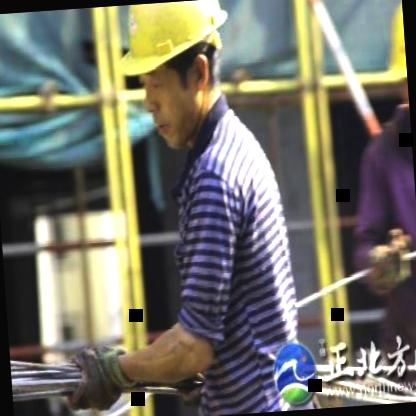helmet: (112, 0, 240, 153), (385, 0, 411, 136)
